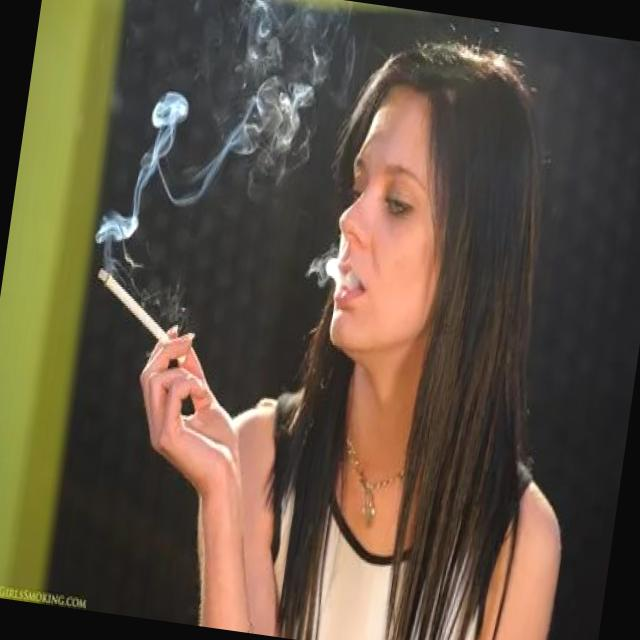smoke: (86, 259, 184, 347)
